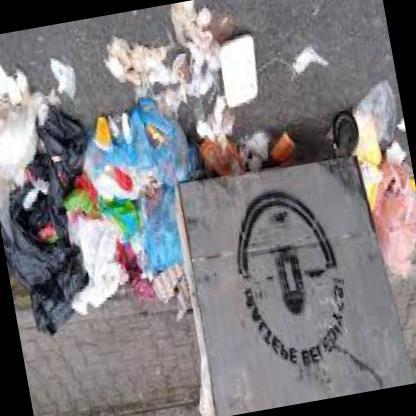Garbage: (5, 132, 192, 328), (102, 0, 276, 165), (0, 51, 80, 276), (356, 75, 415, 279)
